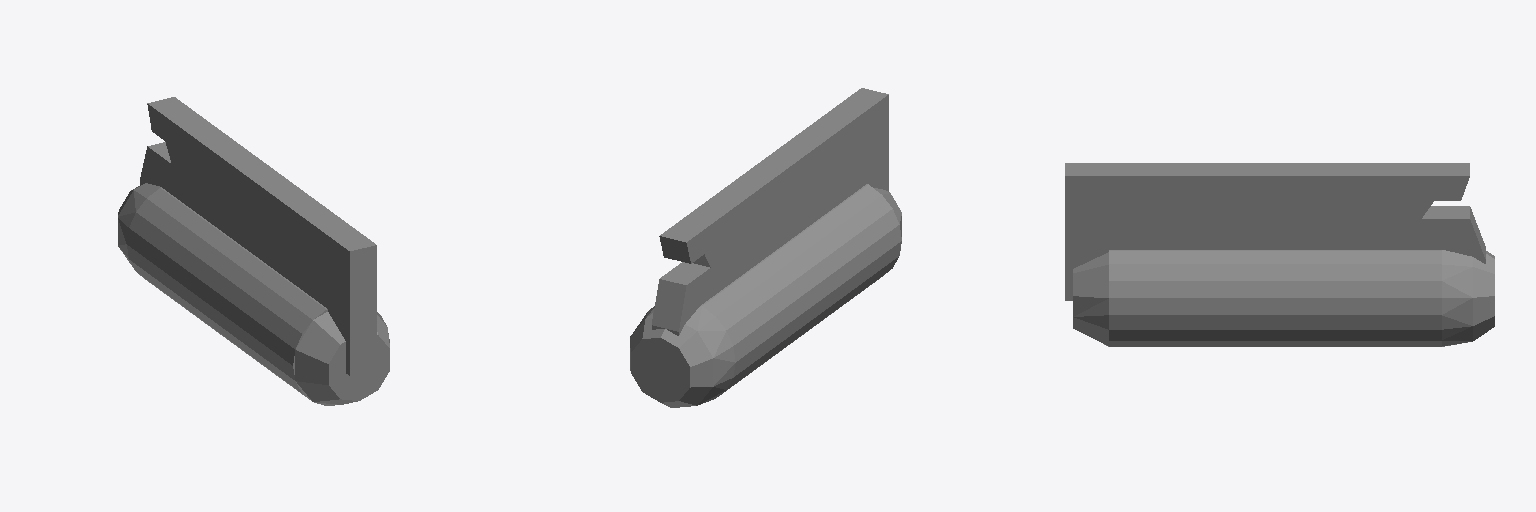
The model's file is acc5.obj.
3 renders of one model, left to right at view 1: azimuth 30°, elevation 25°; view 2: azimuth 150°, elevation 25°; view 3: azimuth 270°, elevation 25°, orthographic.
Parts seen in each view (by area): view 1: acc5; view 2: acc5; view 3: acc5.
Boxes of the visible parts, <box> form: acc5: <box>118,97,389,405</box>; acc5: <box>630,88,901,407</box>; acc5: <box>1065,163,1494,346</box>.
Size of the model in its own units: 4.2 by 7.15 by 16.11.